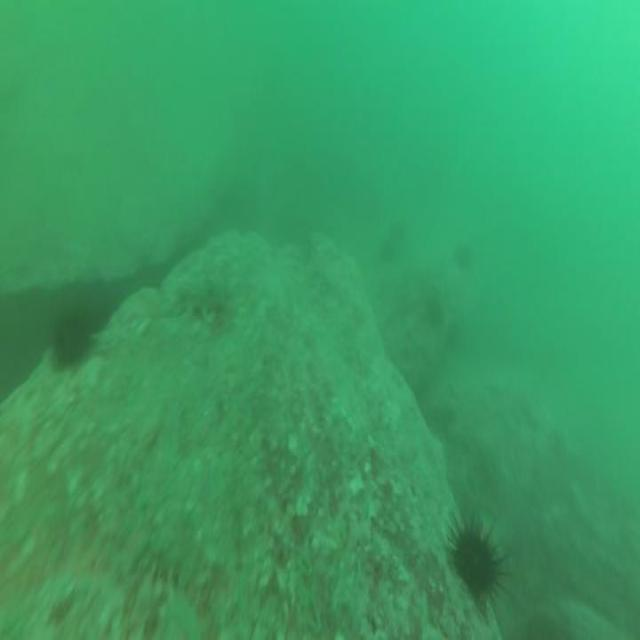echinus: (443, 502, 510, 620), (44, 303, 96, 373), (421, 283, 448, 330), (450, 238, 474, 274)
holothurian: (132, 526, 218, 618), (174, 272, 236, 322)
